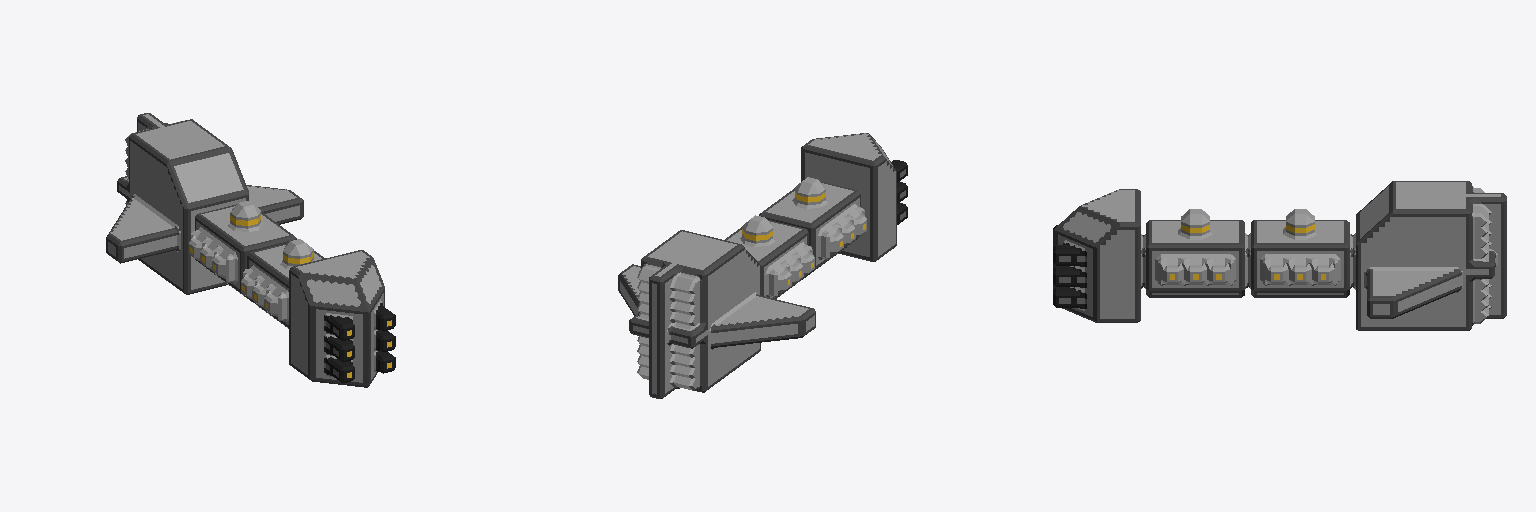
3 views of the same model, side by side, from view 1: azimuth 30°, elevation 25°; view 2: azimuth 150°, elevation 25°; view 3: azimuth 270°, elevation 25° (orthographic).
Bounding box in the file's own units: 37 × 23 × 78.
Materials: 1 (1 with a texture image).